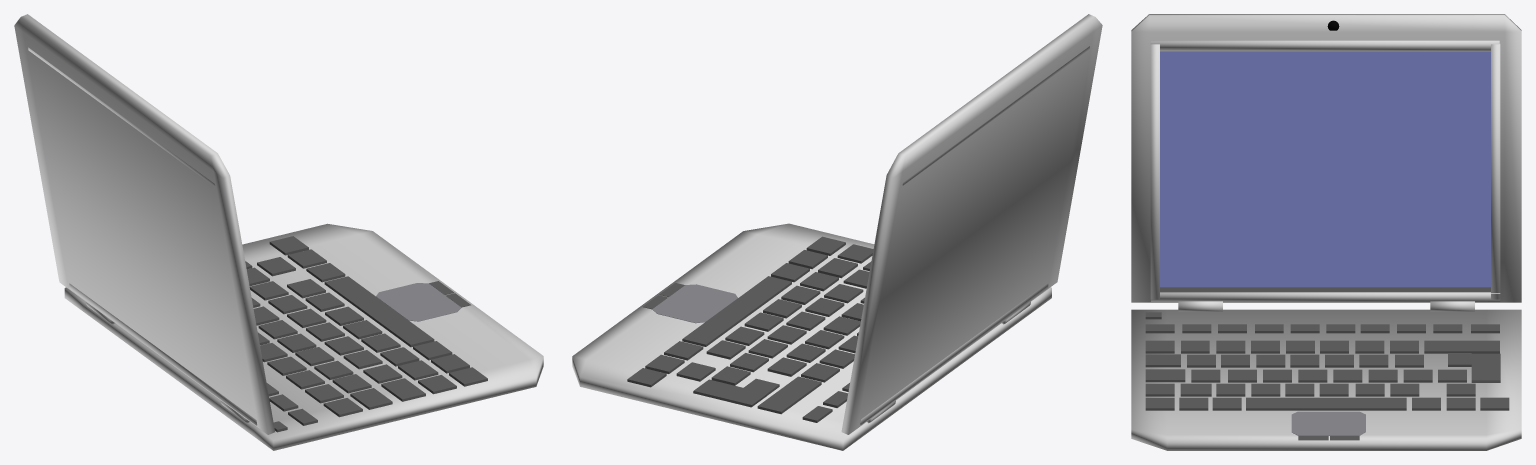
The model's file is LappariUV.fbx.
3 renders of one model, left to right at view 1: azimuth 30°, elevation 25°; view 2: azimuth 150°, elevation 25°; view 3: azimuth 270°, elevation 25°, orthographic. The views are drawn at different scales.
Visible parts, largest first — view 1: Cube.001, Cube, Cube.017, Cube.007, Cube.006, Cube.005, Cube.011, Cube.012; view 2: Cube.001, Cube, Cube.017, Cube.007, Cube.006, Cube.054, Cube.038, Cube.005; view 3: Cube.002, Cube, Cube.001, Cube.005, Cube.006, Cube.004, Cube.003, Cube.017, Cube.007, Cube.054, Cube.038, Cube.011 (+41 smaller).
Boxes of the visible parts, x1,y1,x2,y2 form: Cube.001: (14,14,274,434); Cube: (64,223,543,450); Cube.017: (324,276,434,347); Cube.007: (376,283,461,321); Cube.006: (69,283,257,425); Cube.005: (28,47,215,186); Cube.011: (381,378,425,401); Cube.012: (350,388,392,409); Cube.001: (841,14,1102,434); Cube: (572,223,1051,450); Cube.017: (682,276,791,346); Cube.007: (652,284,737,323); Cube.006: (860,283,1048,424); Cube.054: (757,376,821,414); Cube.038: (693,379,767,407); Cube.005: (902,46,1089,185); Cube.002: (1160,51,1490,287); Cube: (1131,309,1521,450); Cube.001: (1131,14,1521,302); Cube.005: (1151,40,1499,50); Cube.006: (1151,292,1500,301); Cube.004: (1150,44,1159,299); Cube.003: (1491,44,1500,299); Cube.017: (1246,397,1406,410); Cube.007: (1291,411,1365,435); Cube.054: (1424,340,1499,353); Cube.038: (1471,353,1500,382); Cube.011: (1145,369,1185,382).
Size of the model in its own units: 246 by 207 by 260.
